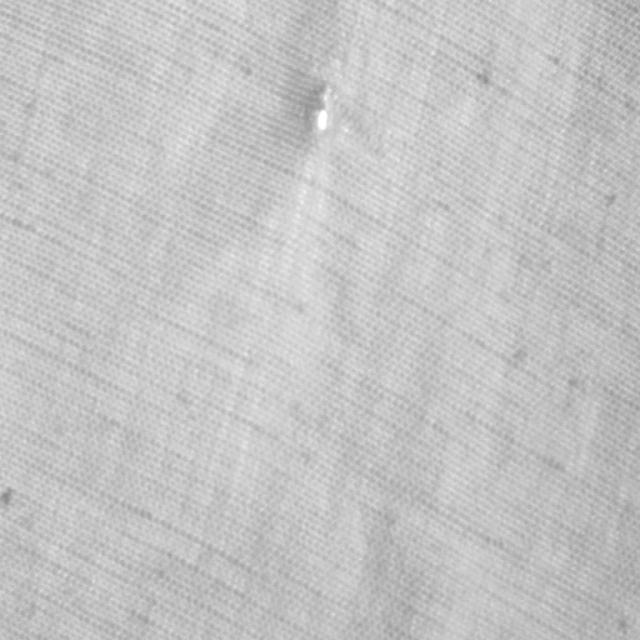hole: (307, 76, 339, 140)
